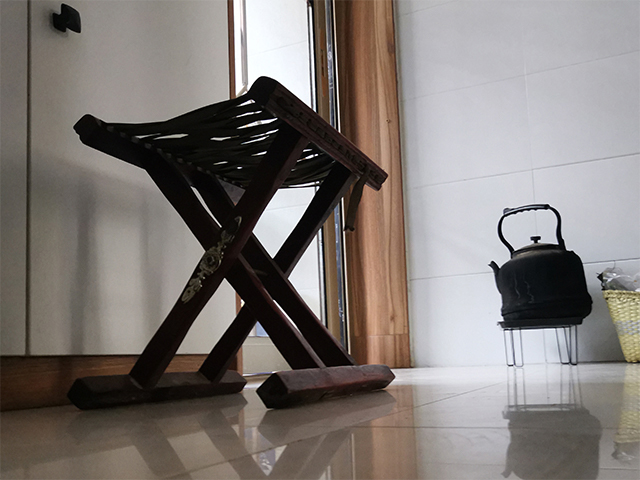cabinet: (1, 1, 247, 414)
stool: (63, 74, 398, 412)
